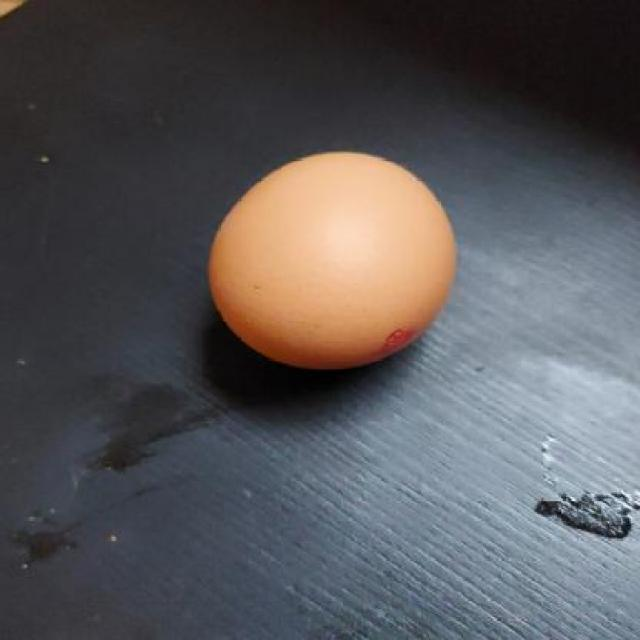biodegradable: (208, 156, 456, 382)
